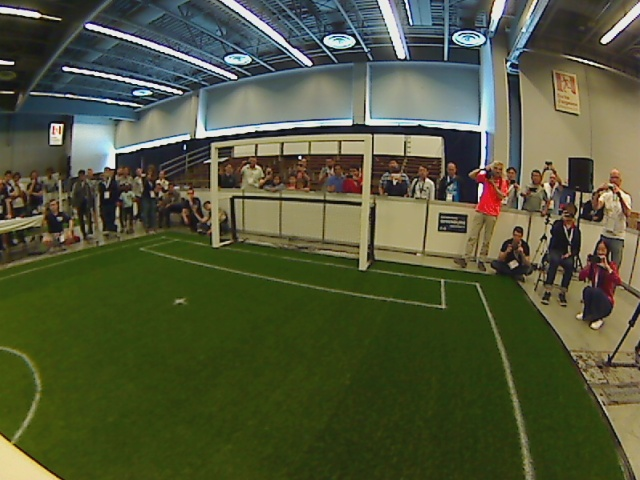ball: (173, 297, 188, 305)
